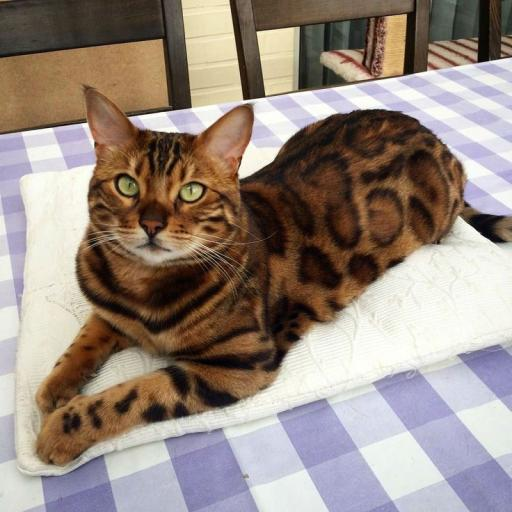cats: (35, 88, 511, 465)
